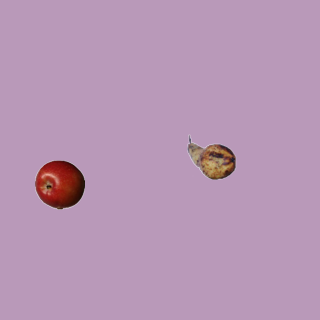Apple Braeburn: (34, 159, 84, 209)
Pear Abate: (186, 132, 236, 182)
